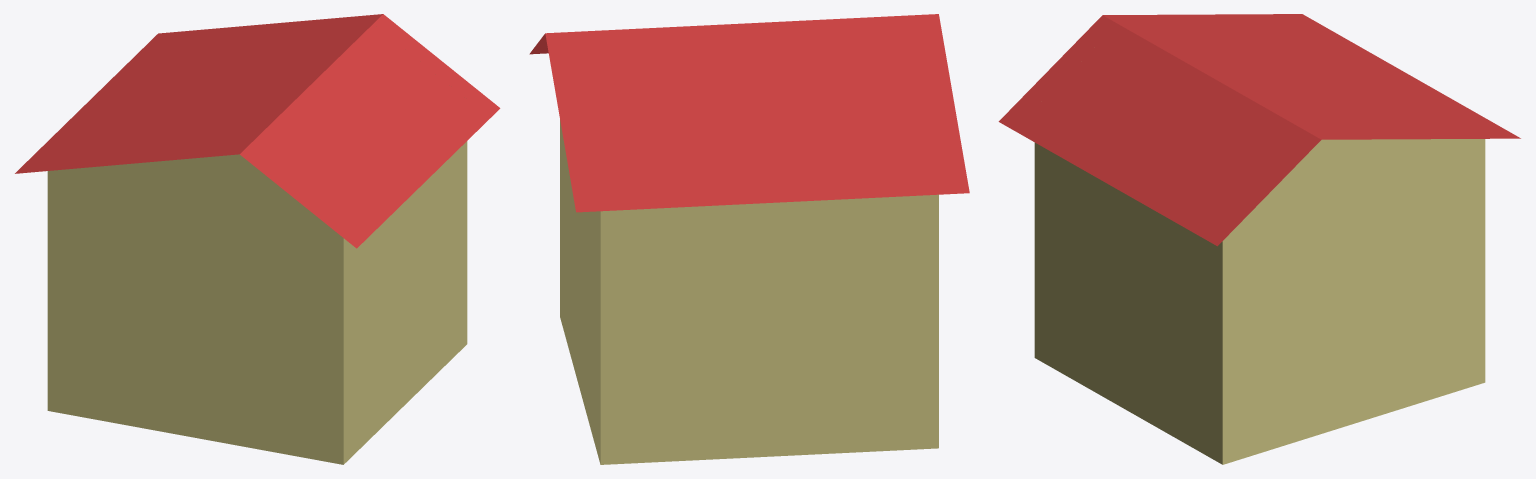
The picture shows the model from 3 angles, left to right: view 1: azimuth 30°, elevation 25°; view 2: azimuth 150°, elevation 25°; view 3: azimuth 270°, elevation 25°; orthographic projection. The views are drawn at different scales.
Size of the model in its own units: 10.11 by 10.16 by 6.59.
